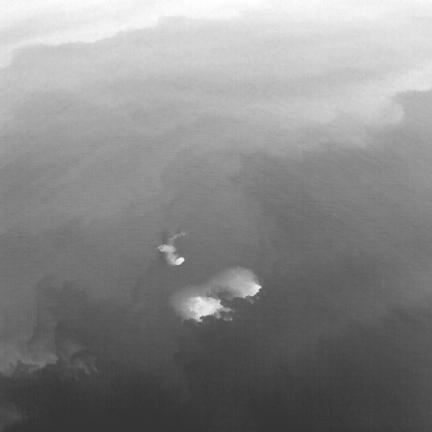flukeprints: (188, 296, 225, 320), (244, 282, 261, 296), (158, 244, 175, 253), (174, 256, 184, 264)
